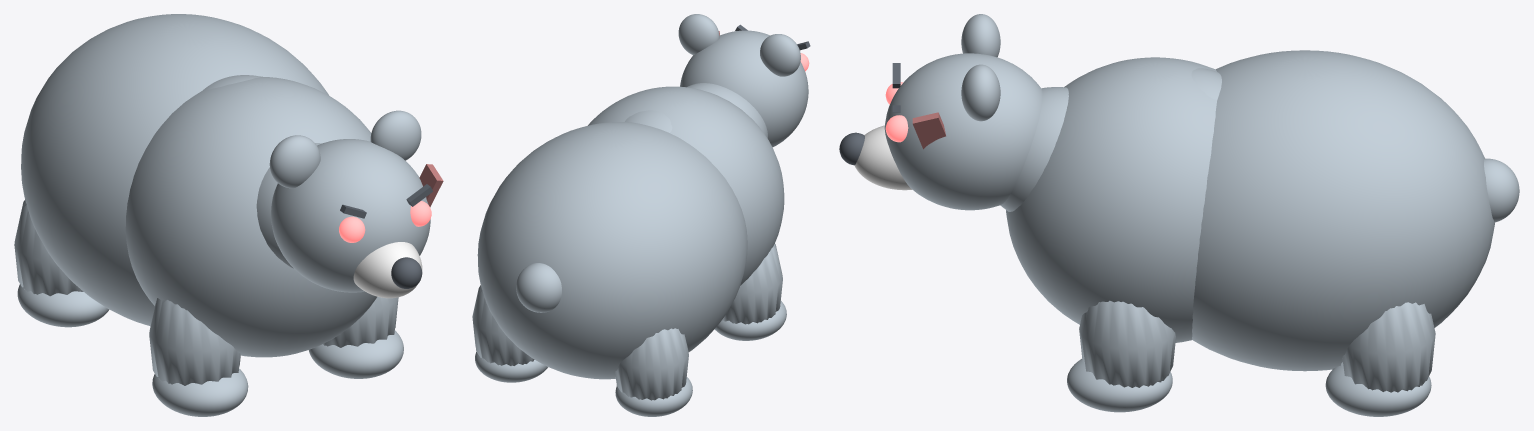
File: bear_t3.glb
The picture shows the model from 3 angles, left to right: view 1: azimuth 30°, elevation 25°; view 2: azimuth 150°, elevation 25°; view 3: azimuth 270°, elevation 25°; orthographic projection. The views are drawn at different scales.
Parts seen in each view (by area): view 1: chest, hips, head, leg-0.34-0.4, paw-0.34-0.4, leg-0.380.55, paw0.34-0.4, paw-0.380.55, muzzle, ear-1, leg0.34-0.4, ear1 (+5 smaller); view 2: hips, chest, head, leg-0.380.55, leg-0.34-0.4, leg0.380.55, tail, ear-1, paw-0.380.55, paw-0.34-0.4, ear1, paw0.380.55 (+2 smaller); view 3: hips, chest, head, leg0.34-0.4, leg0.380.55, neck, paw0.34-0.4, paw0.380.55, muzzle, ear1, tail, ear-1 (+3 smaller).
Part boxes in pixels (x1,y1,x2,y2): chest: (125, 76, 376, 357); hips: (21, 14, 328, 326); head: (271, 139, 430, 292); leg-0.34-0.4: (149, 298, 240, 385); paw-0.34-0.4: (152, 368, 248, 416); leg-0.380.55: (14, 199, 83, 296); paw0.34-0.4: (308, 330, 403, 378); paw-0.380.55: (17, 284, 109, 327); muzzle: (353, 242, 422, 298); ear-1: (269, 135, 320, 188); leg0.34-0.4: (323, 296, 398, 347); ear1: (370, 110, 421, 160); hips: (477, 122, 747, 379); chest: (588, 86, 784, 285); head: (680, 30, 808, 147); leg-0.380.55: (615, 328, 688, 400); leg-0.34-0.4: (722, 244, 782, 324); leg0.380.55: (472, 285, 534, 365); tail: (516, 263, 561, 312); ear-1: (760, 34, 800, 76); paw-0.380.55: (615, 377, 692, 416); paw-0.34-0.4: (714, 300, 786, 340); ear1: (678, 14, 719, 55); paw0.380.55: (475, 352, 547, 382); hips: (1192, 50, 1494, 371); chest: (1006, 57, 1216, 342); head: (884, 53, 1042, 210); leg0.34-0.4: (1079, 300, 1175, 387); leg0.380.55: (1341, 302, 1435, 392); neck: (1000, 87, 1068, 211); paw0.34-0.4: (1067, 359, 1172, 412); paw0.380.55: (1325, 365, 1431, 416); muzzle: (854, 125, 912, 190); ear1: (961, 64, 1000, 121); tail: (1484, 158, 1519, 222); ear-1: (961, 14, 1000, 57).
Bounding box in the file's own units: 1.22 × 1.31 × 2.5.
